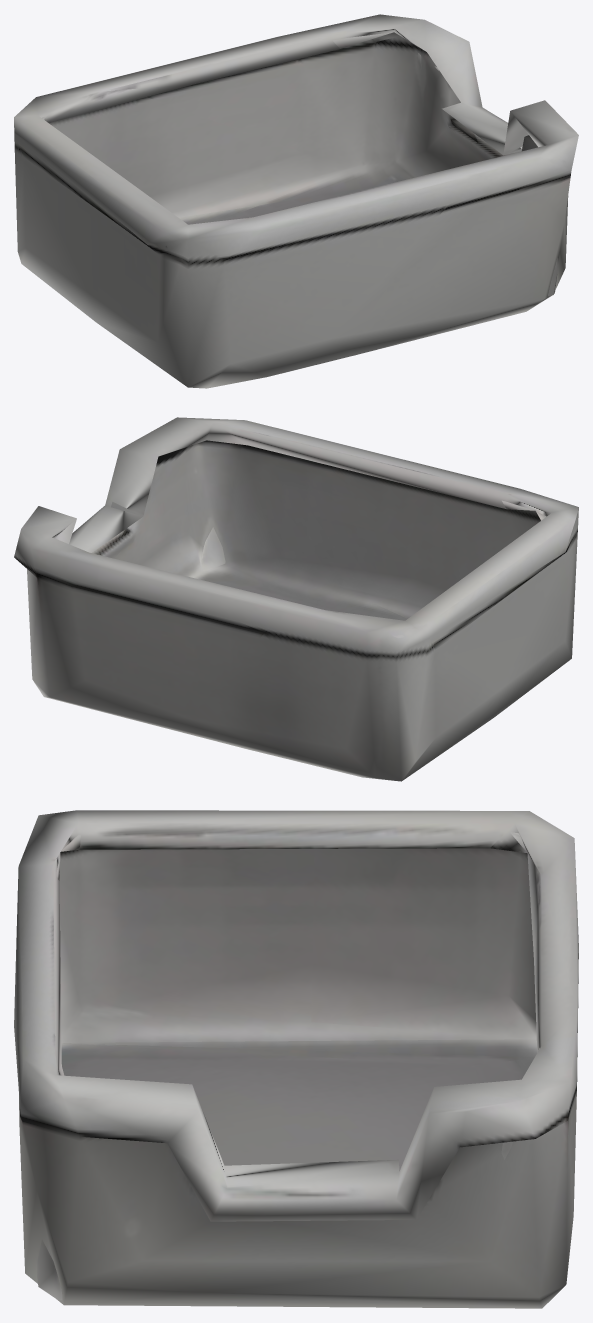
Rendered from SmallStorage.fbx.
3 renders of one model, top to bottom at view 1: azimuth 30°, elevation 25°; view 2: azimuth 150°, elevation 25°; view 3: azimuth 270°, elevation 25°, orthographic. The views are drawn at different scales.
Parts seen in each view (by area): view 1: tripo_node_9510703a; view 2: tripo_node_9510703a; view 3: tripo_node_9510703a.
Boxes of the visible parts, x1,y1,x2,y2 form: tripo_node_9510703a: (14,14,578,388); tripo_node_9510703a: (14,417,578,781); tripo_node_9510703a: (14,810,578,1308).
Bounding box in the file's own units: 26.94 × 9.67 × 20.97.
